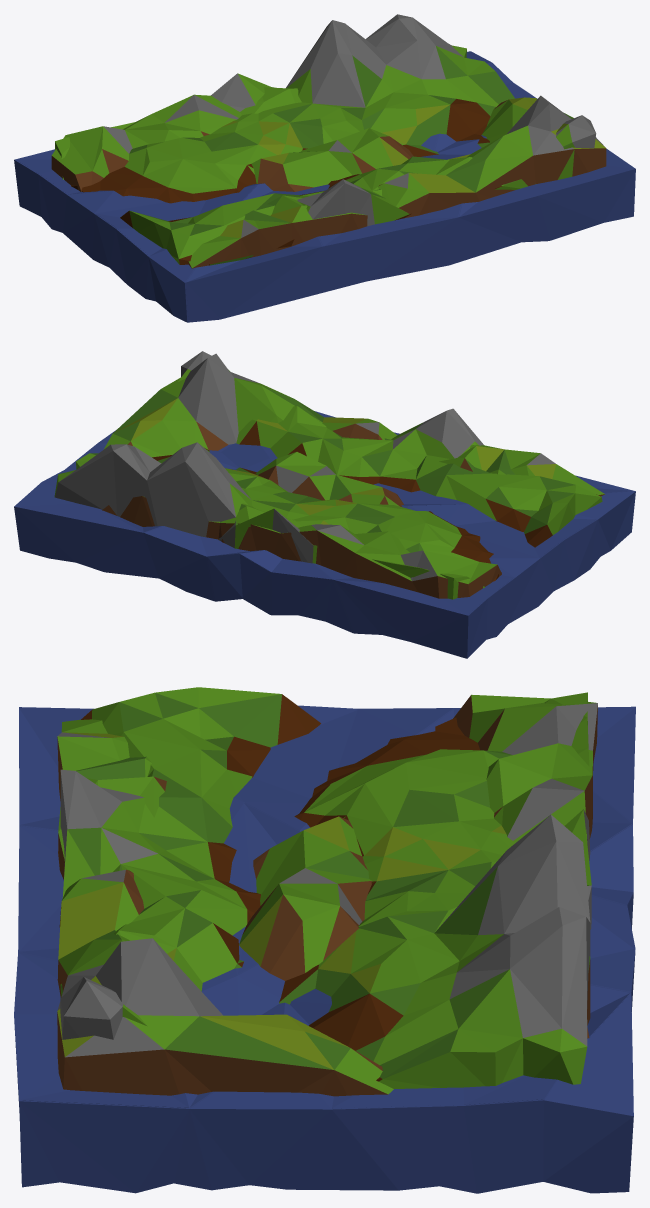
File: DisplayLevels.fbx
The picture shows the model from 3 angles, top to bottom: view 1: azimuth 30°, elevation 25°; view 2: azimuth 150°, elevation 25°; view 3: azimuth 270°, elevation 25°; orthographic projection. The views are drawn at different scales.
Parts seen in each view (by area): view 1: Map.009, BaseMap.007, Plane.013, Plane.017; view 2: Map.009, BaseMap.007, Plane.013, Plane.017; view 3: Map.009, Plane.017, BaseMap.007, Plane.013.
Boxes of the visible parts, left/top/right/bottom form: Map.009: left=55, top=14, right=596, bottom=265; BaseMap.007: left=51, top=87, right=606, bottom=268; Plane.013: left=14, top=63, right=634, bottom=322; Plane.017: left=16, top=51, right=635, bottom=322; Map.009: left=54, top=351, right=602, bottom=599; BaseMap.007: left=102, top=353, right=605, bottom=598; Plane.013: left=15, top=411, right=635, bottom=658; Plane.017: left=14, top=430, right=634, bottom=642; Map.009: left=60, top=687, right=591, bottom=1088; Plane.017: left=14, top=706, right=635, bottom=1193; BaseMap.007: left=57, top=694, right=597, bottom=1096; Plane.013: left=14, top=705, right=635, bottom=1113.
Size of the model in its own units: 159 by 44.68 by 103.
